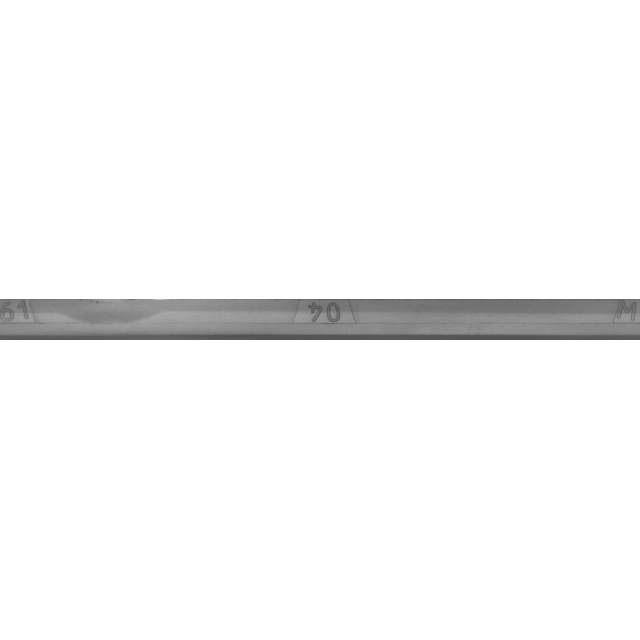mohao: (530, 270, 640, 370)
xuehao: (236, 270, 436, 370)
